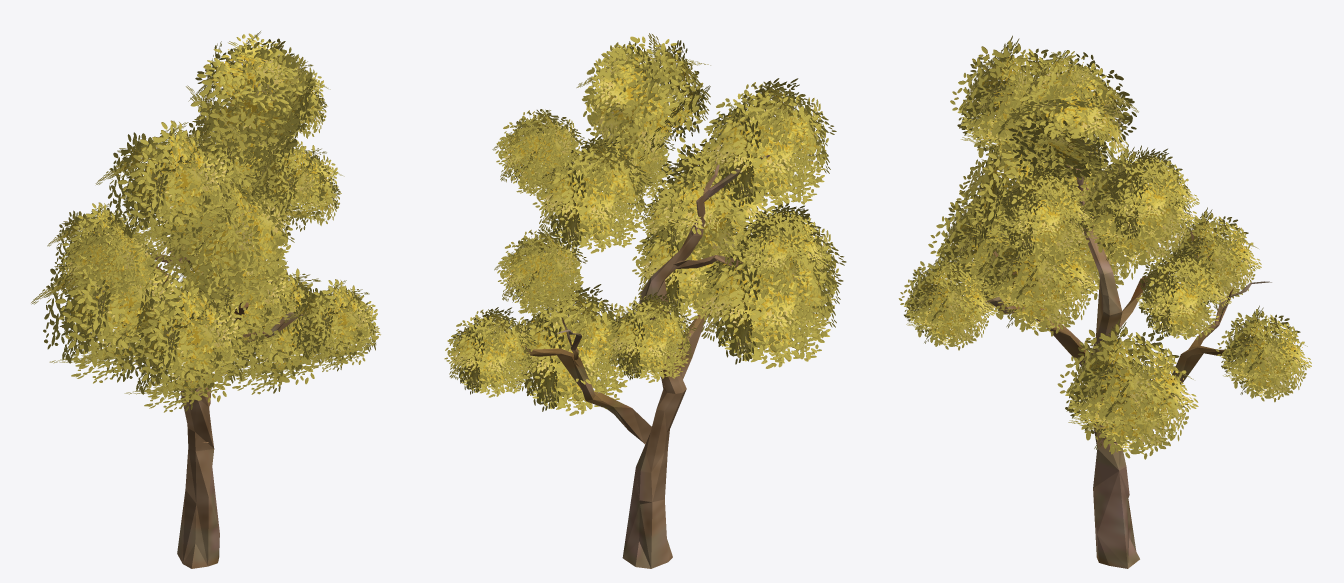
File: Tree 1.fbx
The picture shows the model from 3 angles, left to right: view 1: azimuth 30°, elevation 25°; view 2: azimuth 150°, elevation 25°; view 3: azimuth 270°, elevation 25°; orthographic projection. The views are drawn at different scales.
Parts seen in each view (by area): view 1: Tree1; view 2: Tree1; view 3: Tree1.
Boxes of the visible parts, x1=… form: Tree1: x1=31, y1=31, x2=380, y2=568; Tree1: x1=444, y1=33, x2=846, y2=568; Tree1: x1=898, y1=35, x2=1311, y2=568.
Size of the model in its own units: 322 by 480 by 356.
